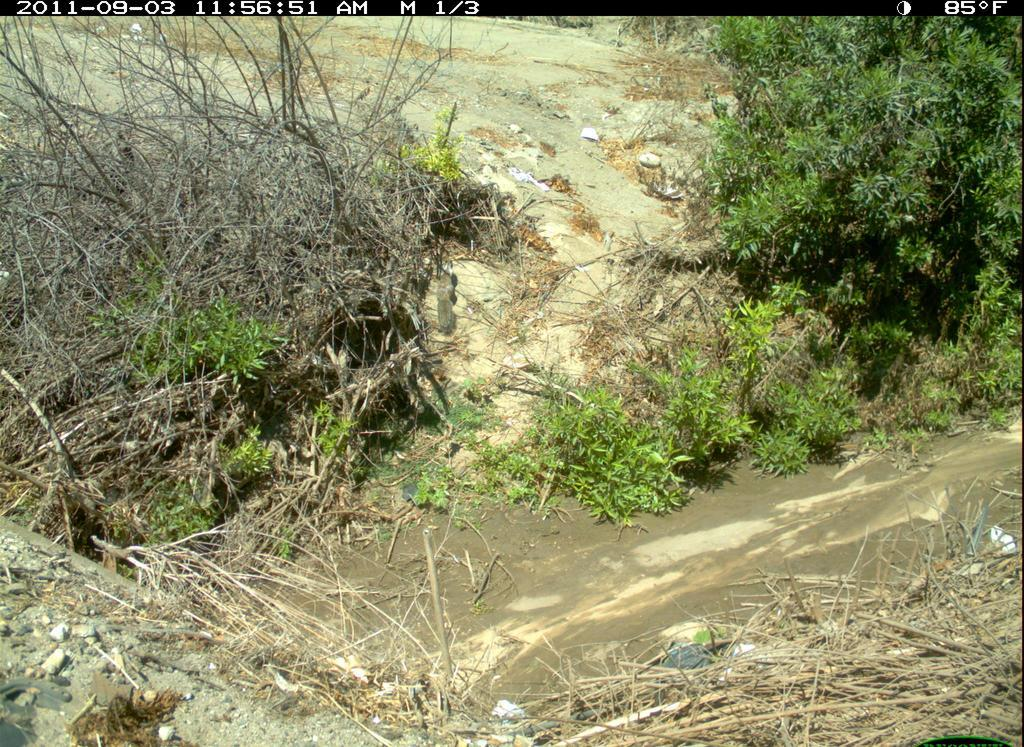squirrel: (434, 253, 473, 338)
